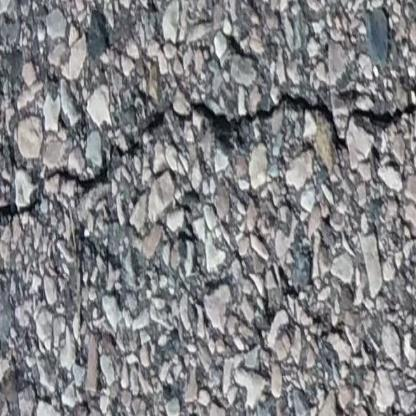Cracks: (0, 81, 416, 227)
